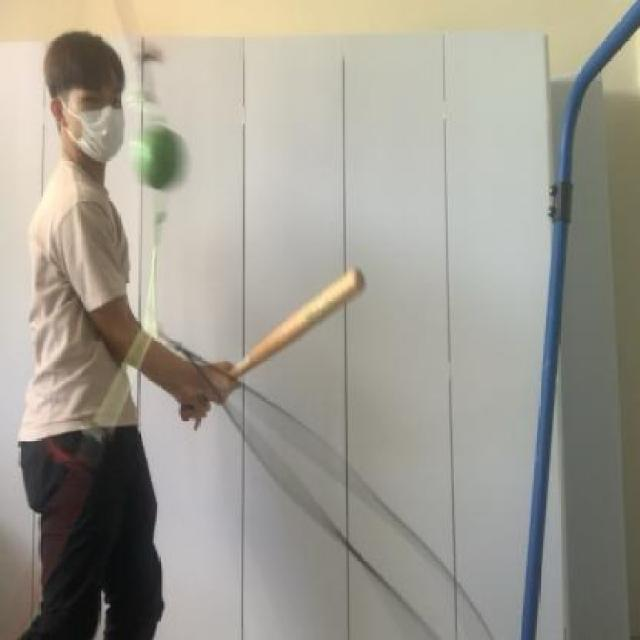baseball: (125, 119, 200, 192)
